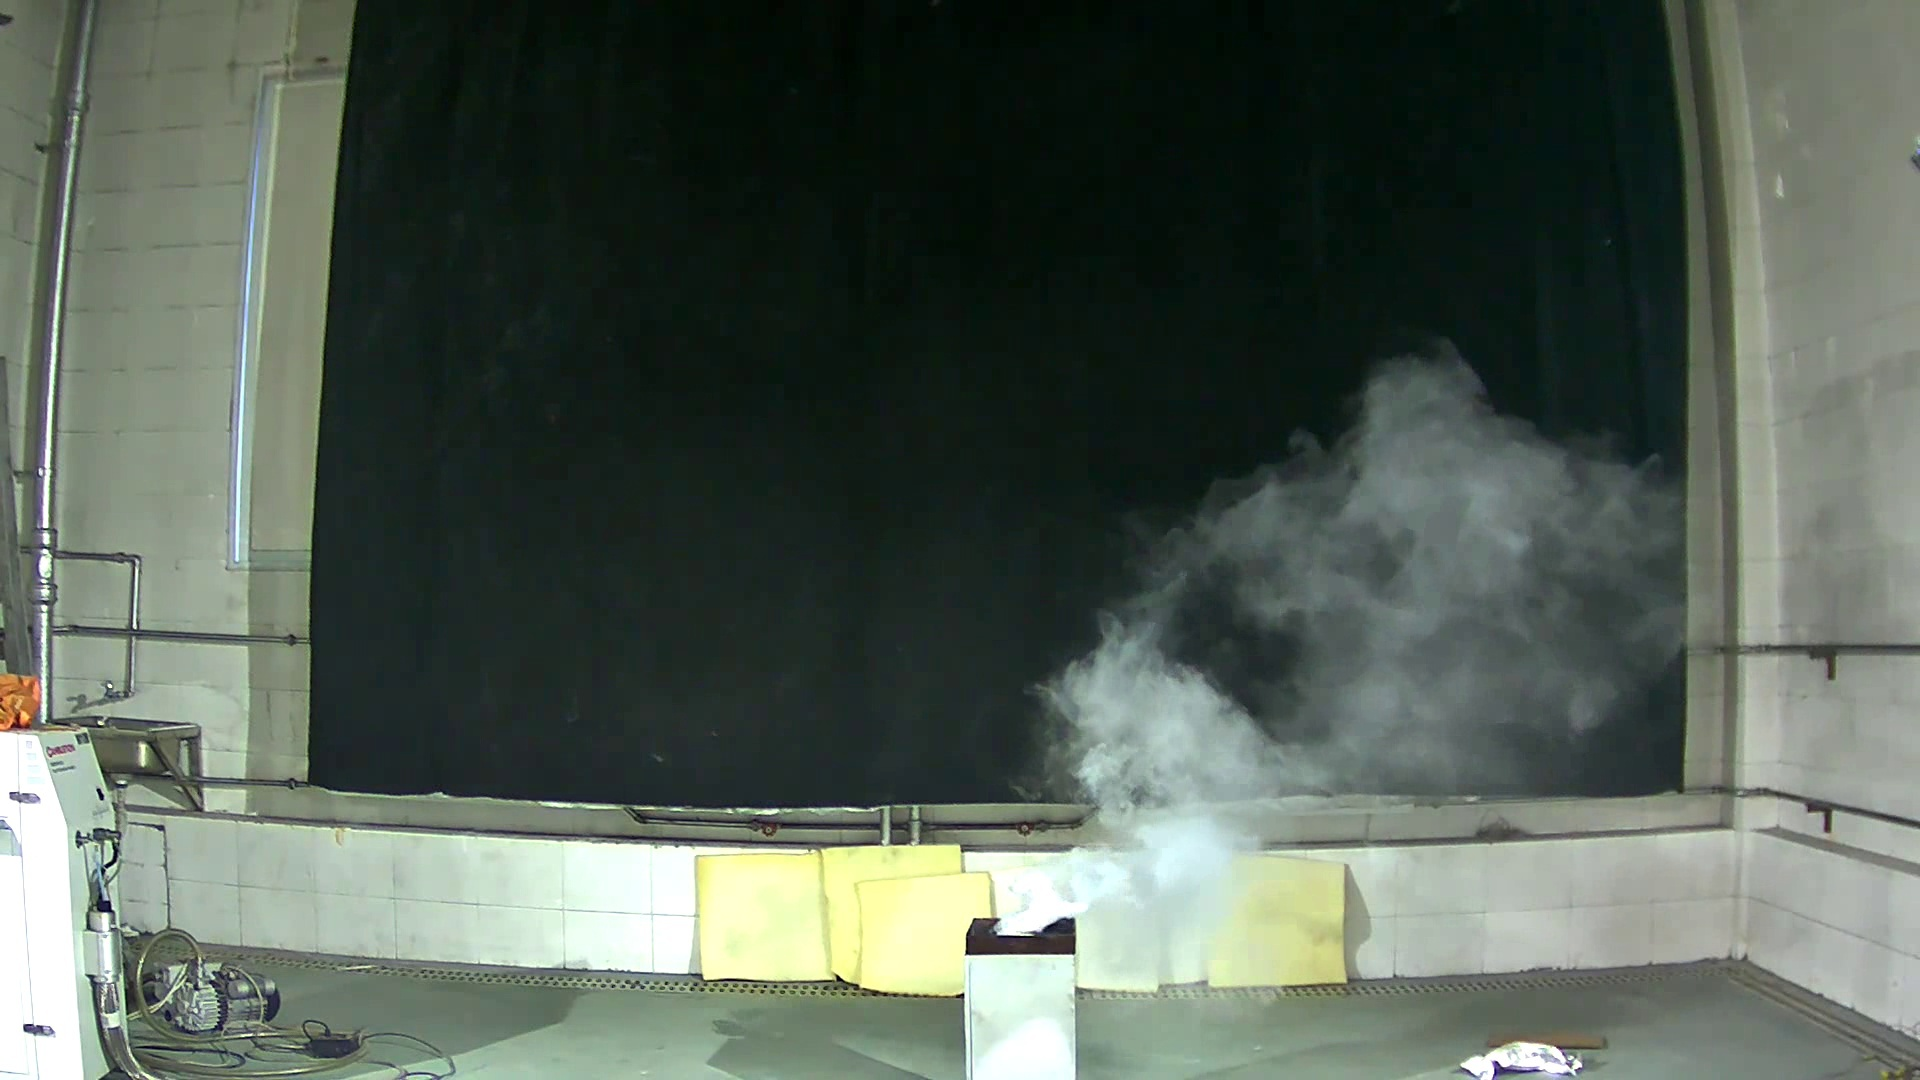smoke: (1247, 320, 1679, 771), (1017, 616, 1294, 934)
